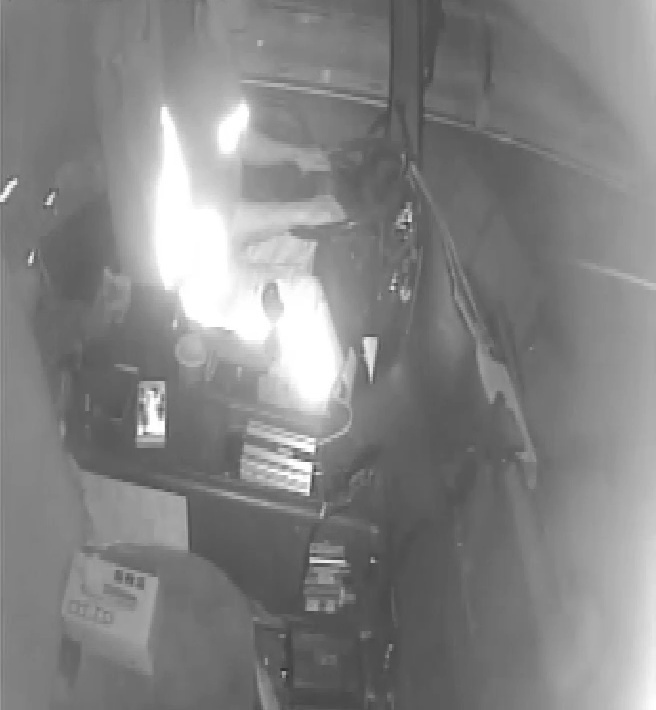cellphone: (128, 375, 170, 452)
